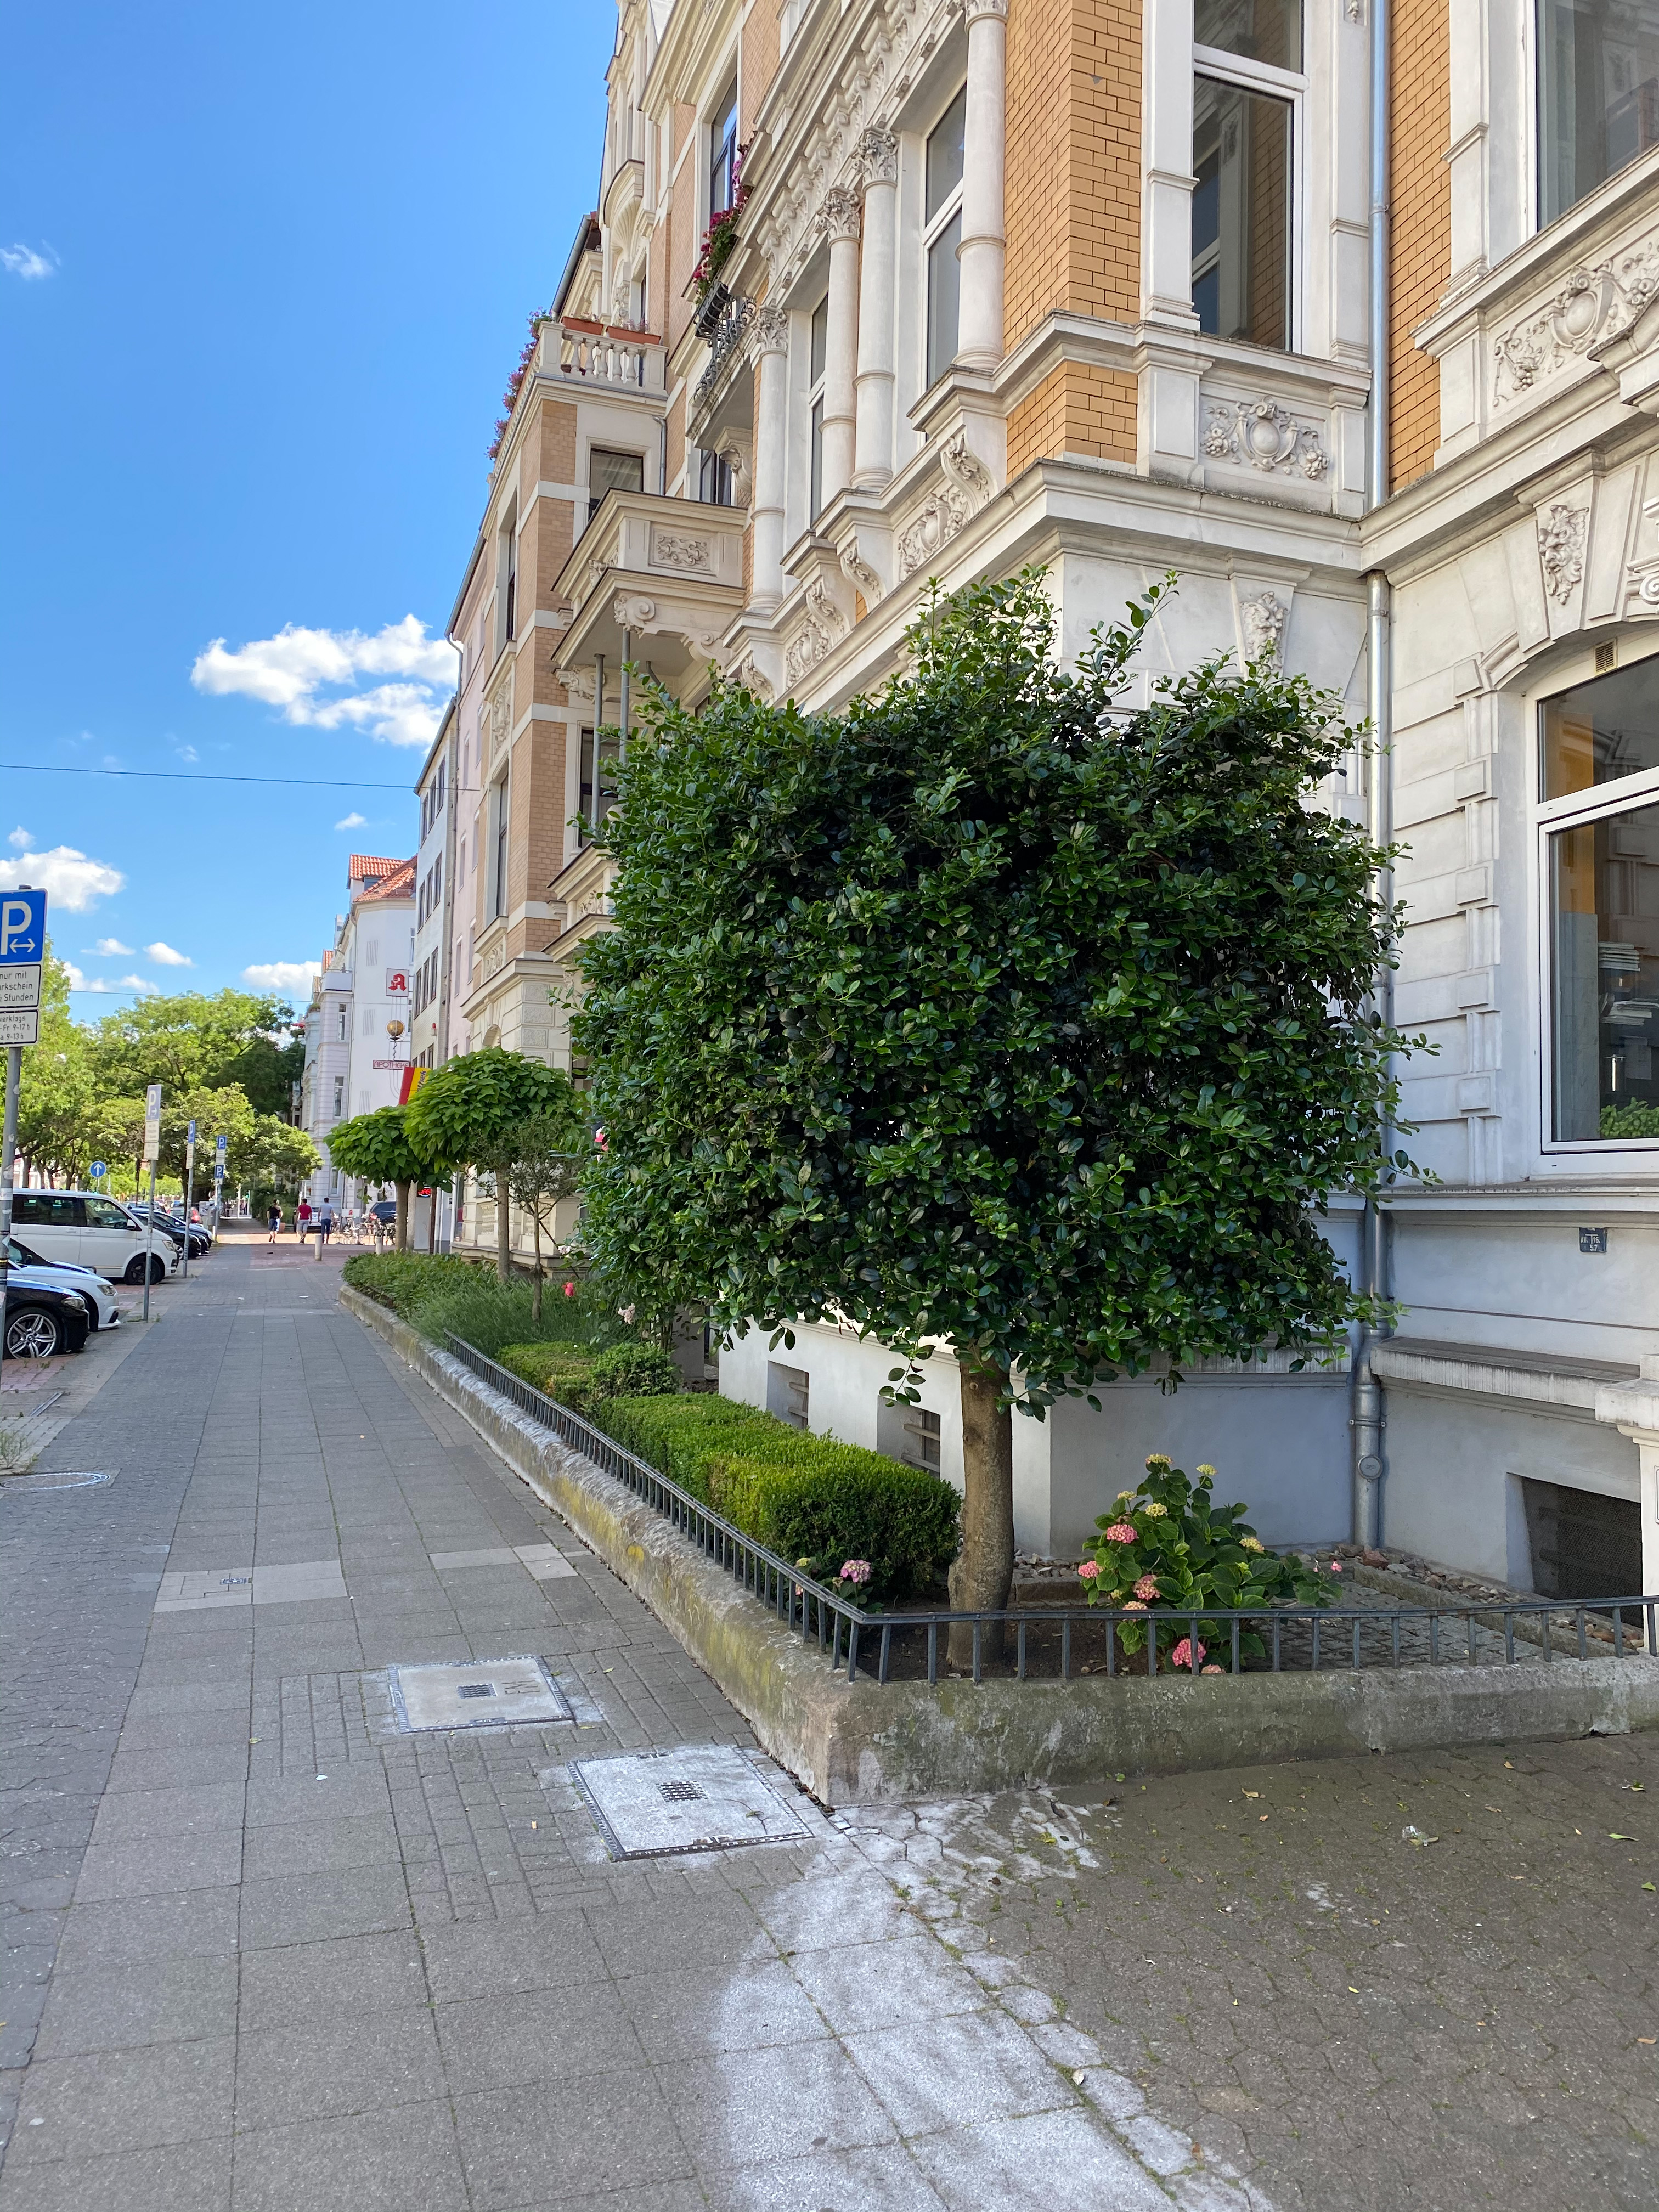tree: (545, 563, 1441, 1672), (75, 986, 305, 1202), (401, 1045, 594, 1285), (78, 1082, 326, 1223), (462, 1106, 580, 1322), (0, 932, 99, 1167), (322, 1104, 451, 1254), (17, 1123, 54, 1188), (61, 1139, 87, 1191), (44, 1146, 75, 1190), (35, 1151, 47, 1190)
